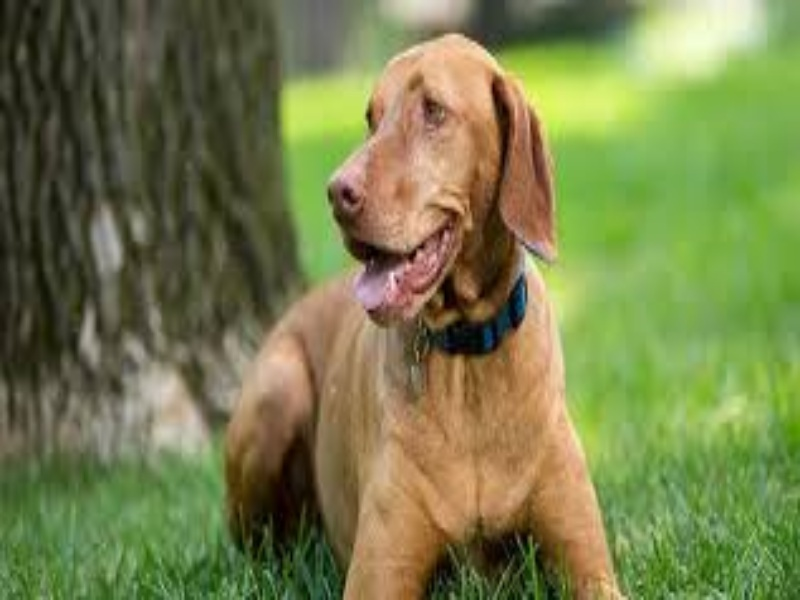dog: (173, 30, 683, 572)
